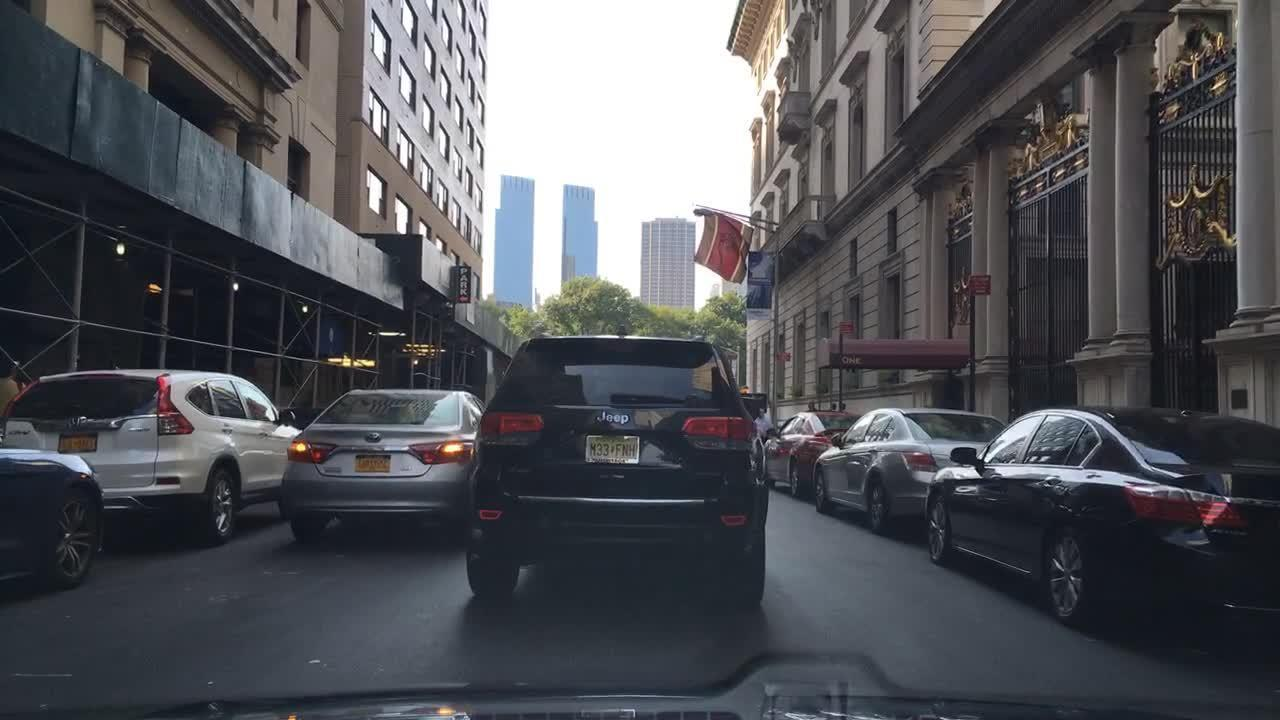Honda: (63, 413, 87, 432)
Toyota: (359, 428, 389, 447)
jeep: (588, 403, 639, 432)
